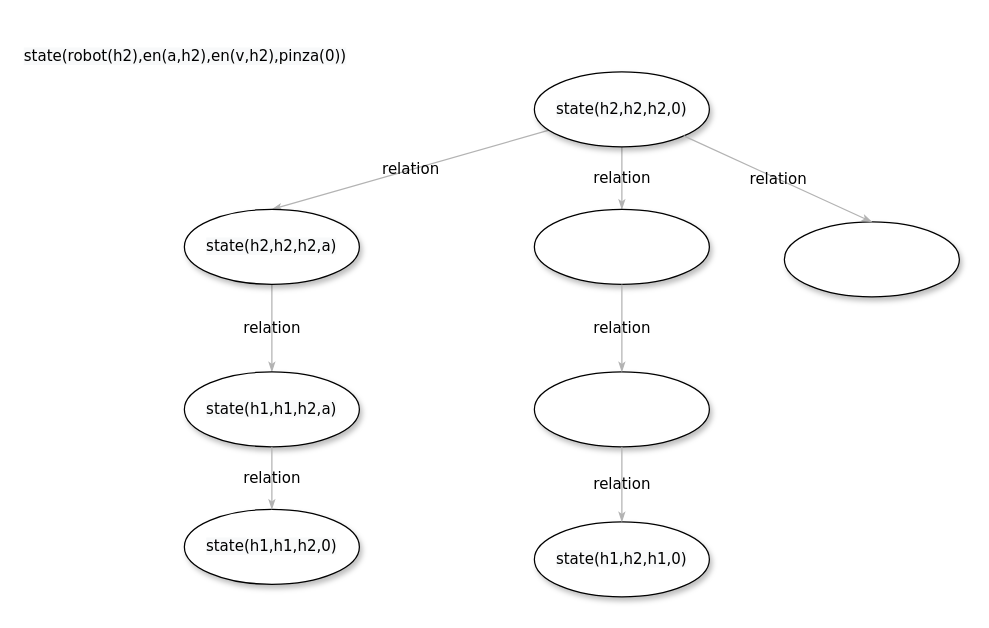
Some shapes in this 989 by 628 pixel diagram are drawn without their labels. Here are the shapes that lost their labels. From the top down, the centre of each, then its label:
point 622,248: state(h2,h2,h2,v)
point 872,261: state(h1,h2,h2,0)
point 622,411: state(h1,h2,h1,v)
